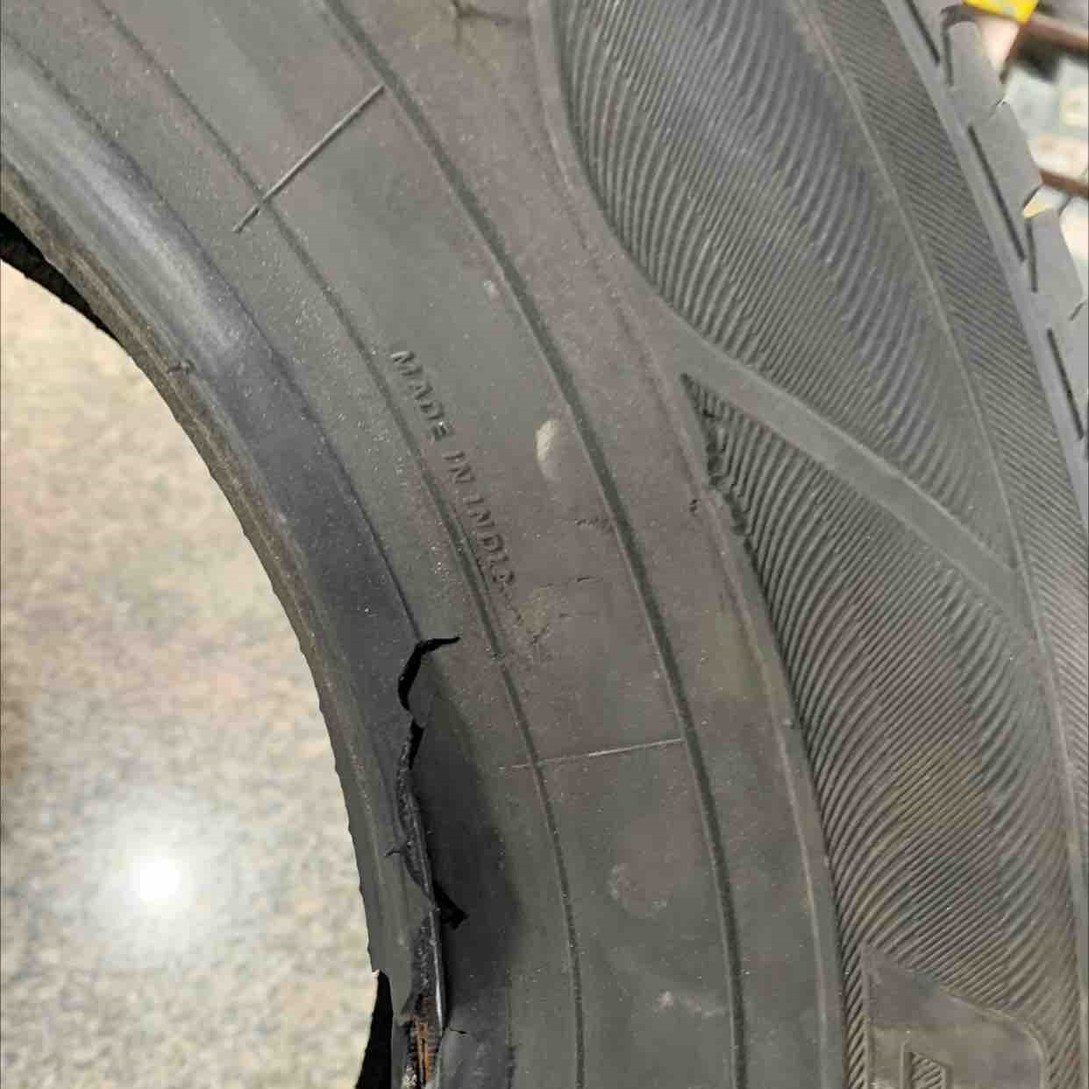bead_damage: (377, 628, 475, 1083)
